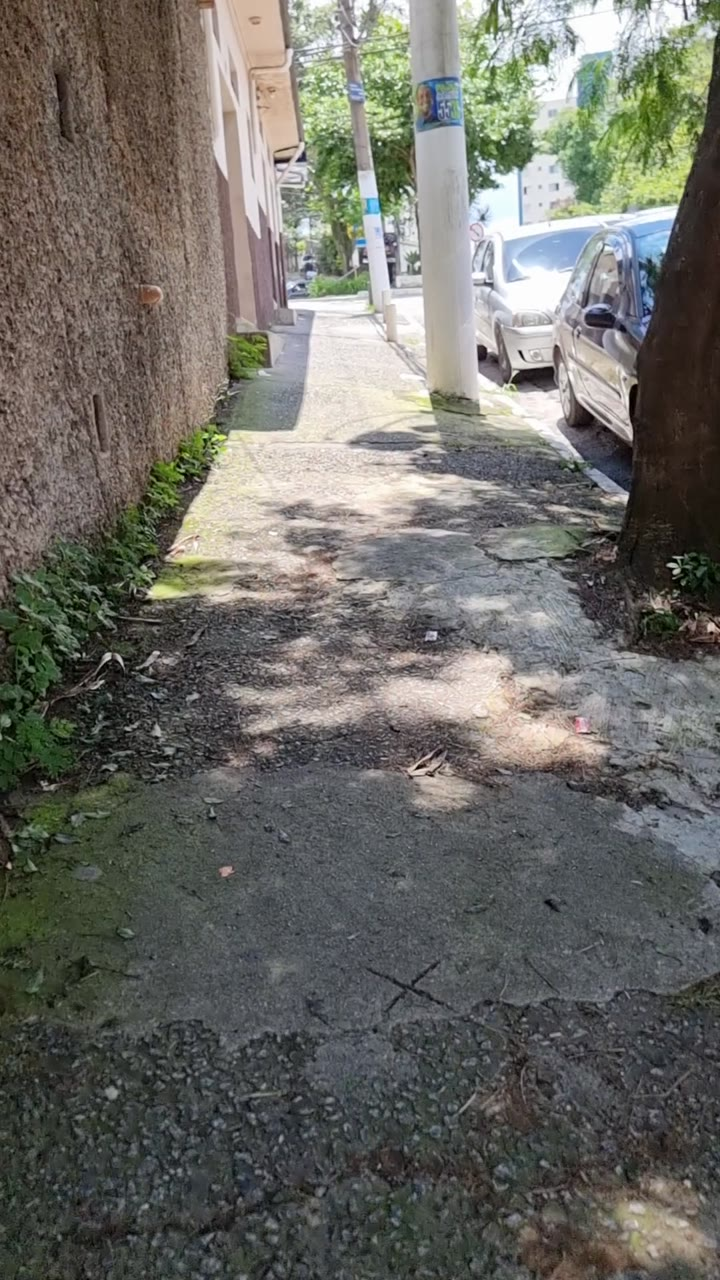obstaculo: (410, 0, 468, 410)
